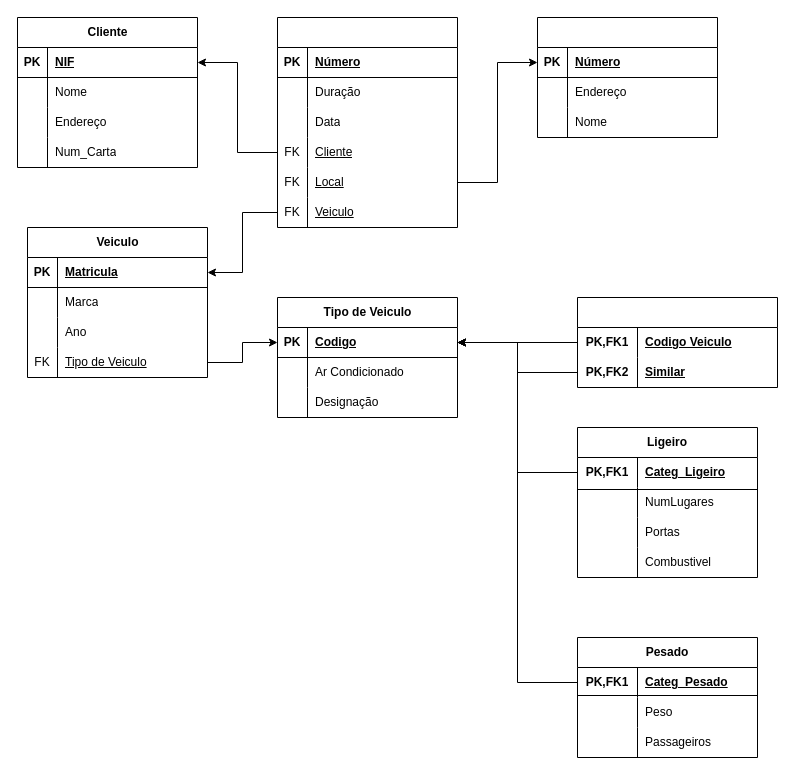
Image size: 795x775. Some labels were removed from this diagram. Here are the shapes that lost their labels. From the top down, the box of each, then its label:
(536, 16, 718, 138): Balcao
(276, 16, 458, 228): Aluguer
(576, 296, 778, 388): Similaridade
